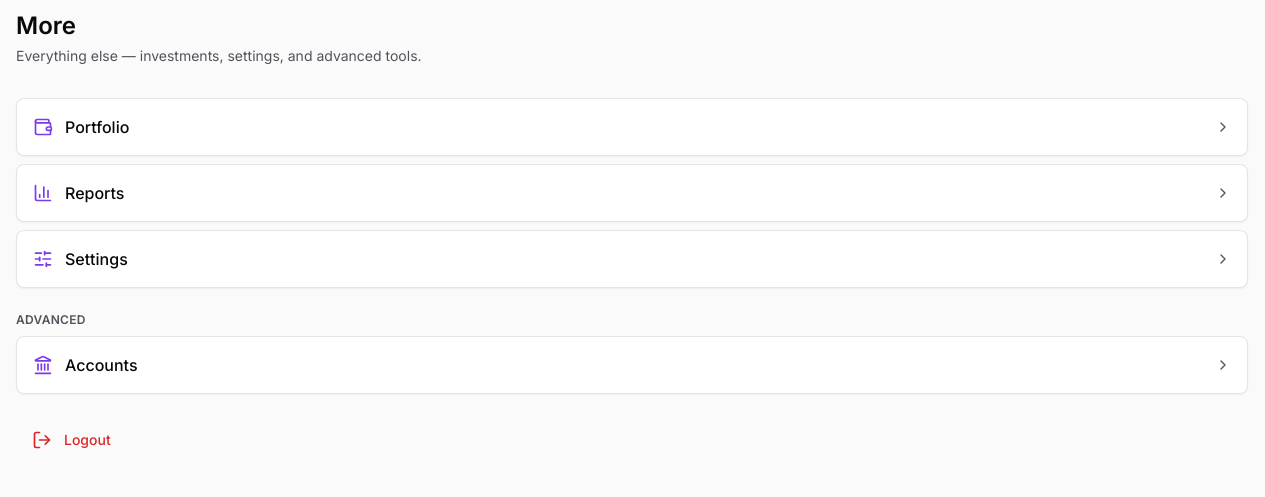
Test: More overflow (EPIC-022 AC22.21.5) › keeps mobile identity when logout fails
What coordinates should you click on to do the following:
click the button "Logout"
I would click on:
 (87, 440)
Its box is [16,418,1248,462].
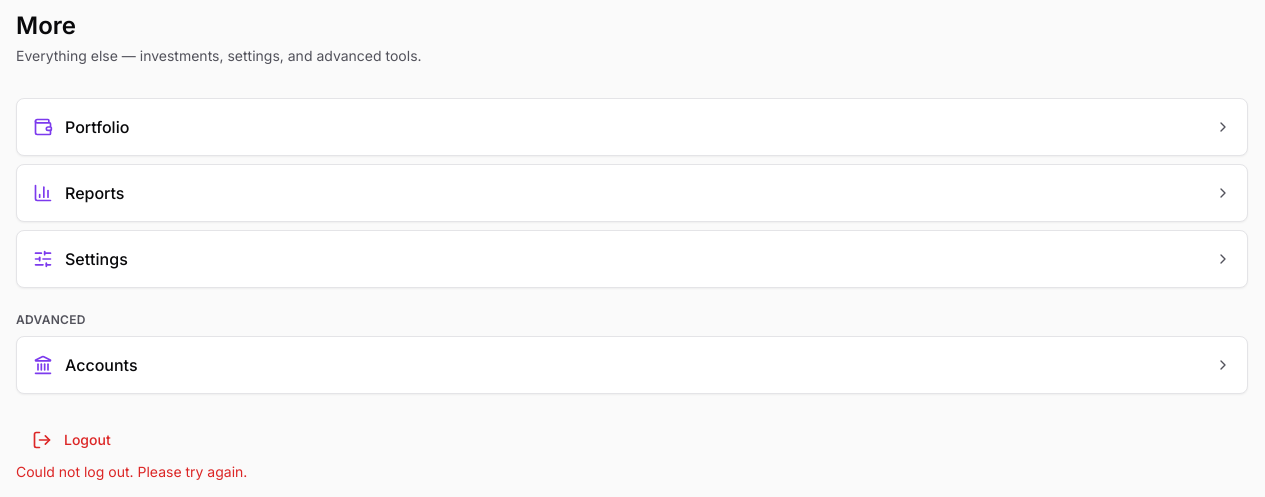
Expected: the message reads "Could not log out. Please try again.", [16,463,247,480]
